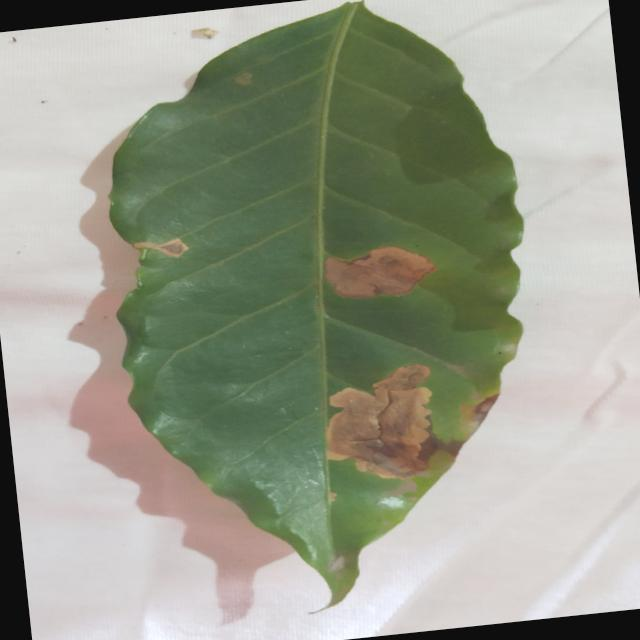KaratDaunKopi: (326, 364, 430, 478), (324, 246, 436, 297), (133, 238, 188, 257), (473, 393, 499, 424), (417, 432, 441, 461), (441, 440, 464, 457)
